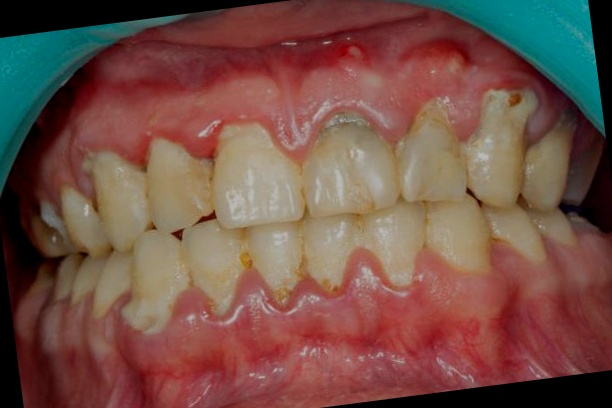Gingivitis: (88, 16, 333, 100), (120, 346, 199, 408), (411, 26, 484, 77), (338, 31, 387, 75)
